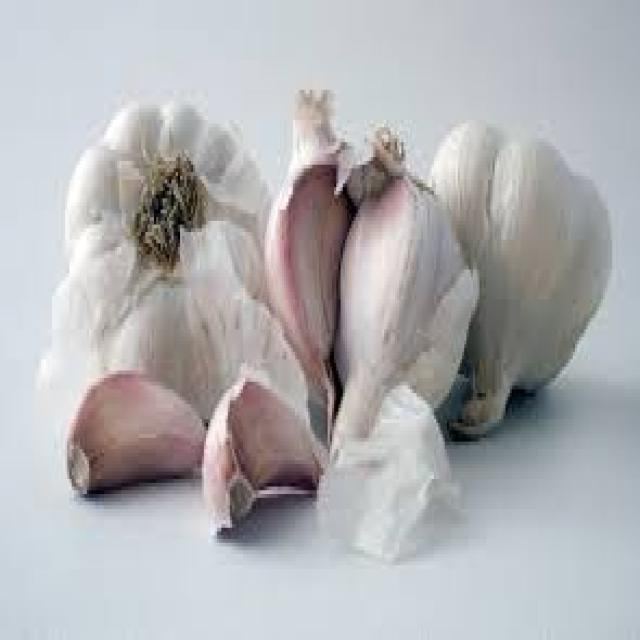Garlic: (414, 114, 622, 454), (61, 102, 278, 394), (326, 162, 478, 518), (264, 99, 365, 400), (41, 350, 206, 512), (204, 370, 324, 538)
